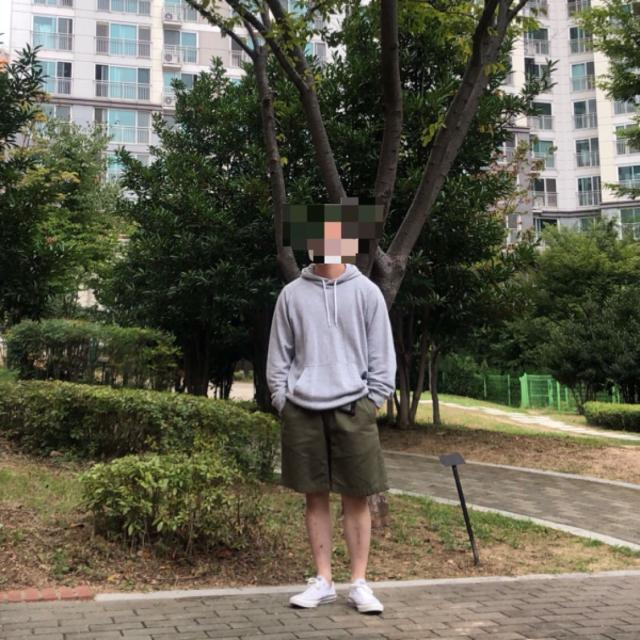hoodies: (268, 261, 398, 413)
shortpants: (281, 394, 386, 498)
